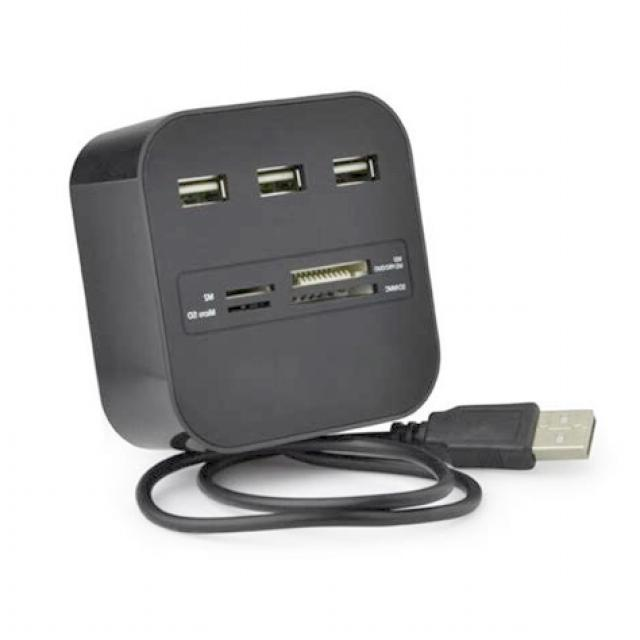usb port: (331, 143, 383, 191), (177, 166, 225, 208), (255, 159, 303, 200)
